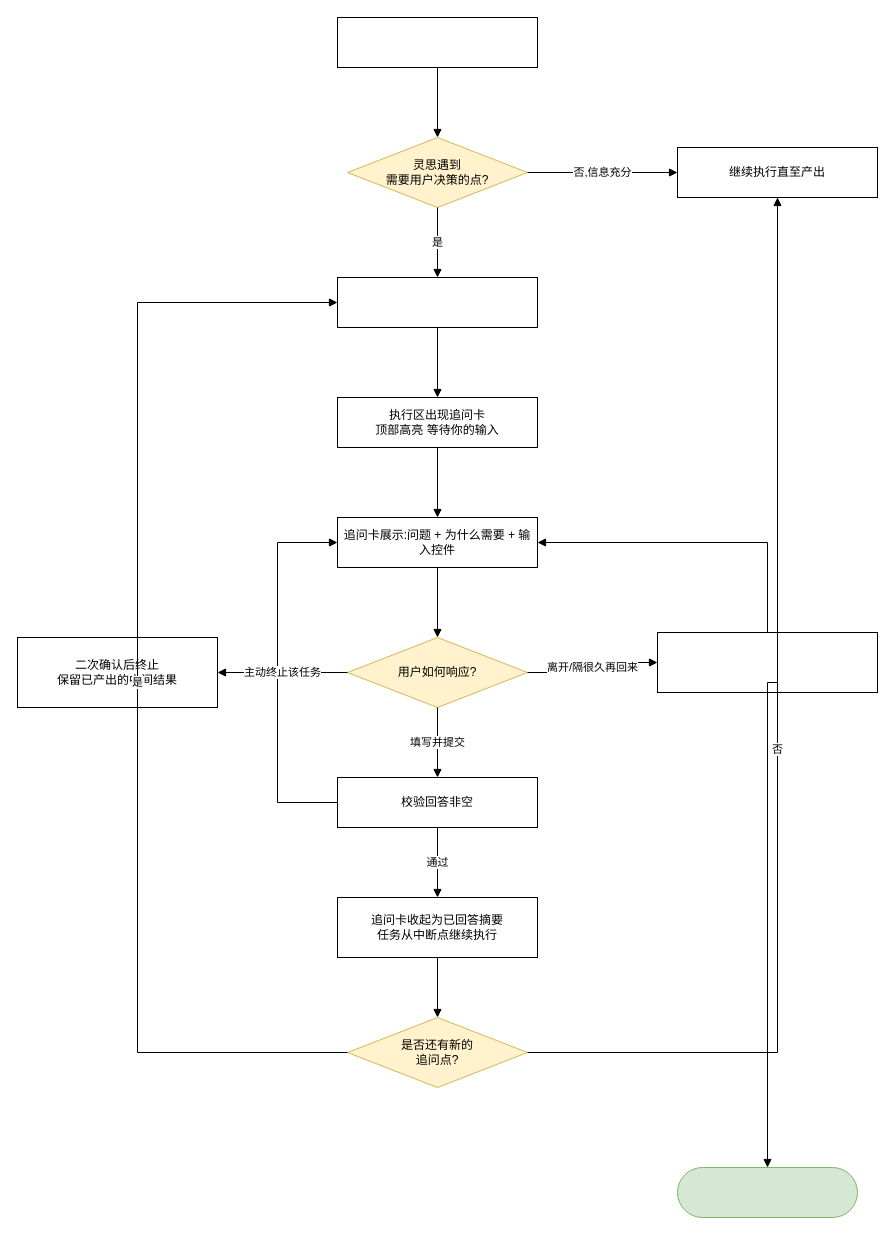
Some shapes in this 895 by 1235 pixel diagram are drawn without their labels. The box of each missing label's shape, as (x1, y1, x2, y2) in pixels:
产出最终产物: (676, 1166, 858, 1218)
任务执行中: (336, 16, 538, 68)
当前任务暂停 挂起到追问态: (336, 276, 538, 328)
追问态经 checkpointer 持久保存 回来仍可回答并续跑: (656, 632, 878, 692)
